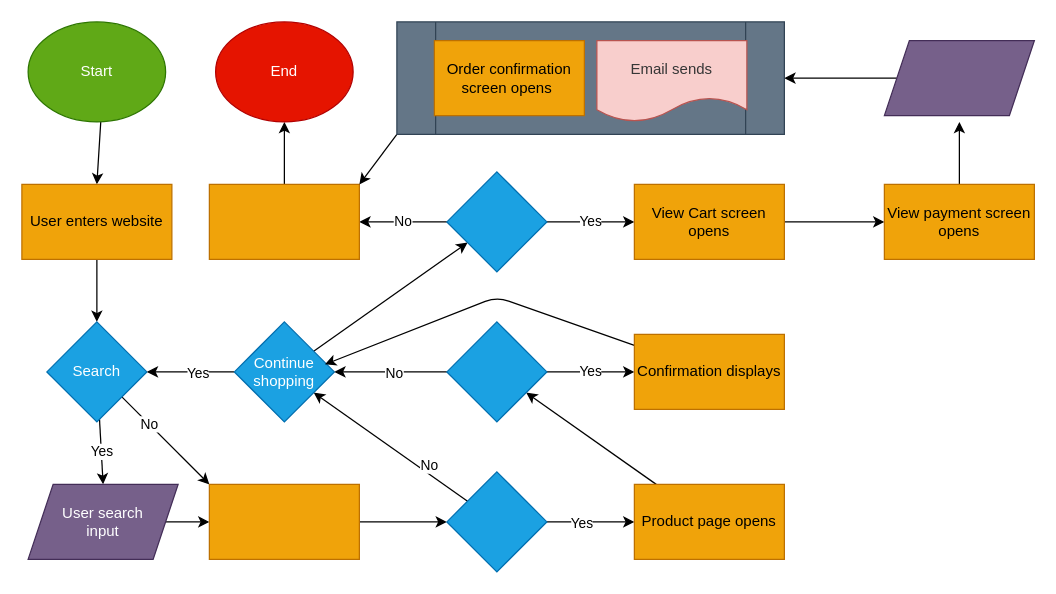
Some shapes in this 1056 by 594 pixel diagram are drawn without their labels. The shapes that lost their labels are listed below. From the top down, each one's box as (x1, y1, x2, y2) in pixels, then its label:
(883, 39, 1034, 116): User payment input
(208, 183, 359, 259): User exits website
(446, 171, 547, 272): Check out
(446, 321, 547, 422): Add to cart
(208, 483, 359, 559): User browses products
(446, 471, 547, 572): View product
